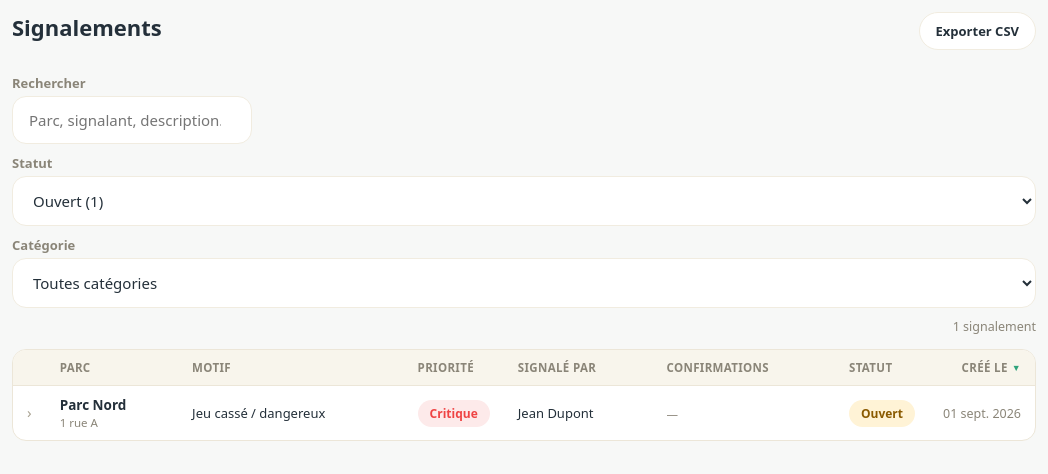
Test: Reports — file de triage (Lot Admin-2) › affiche l'adresse du parc quand elle existe, et un message neutre sinon
expect the text "1 rue A" is shown: met, box x1=60 y1=415 x2=98 y2=430
Bascule sur "Résolu" pour révéler la ligne dont l'adresse est absente.
Select "Résolu" in the dropdown labelled "Statut" at (524, 201), box x1=12 y1=176 x2=1036 y2=226
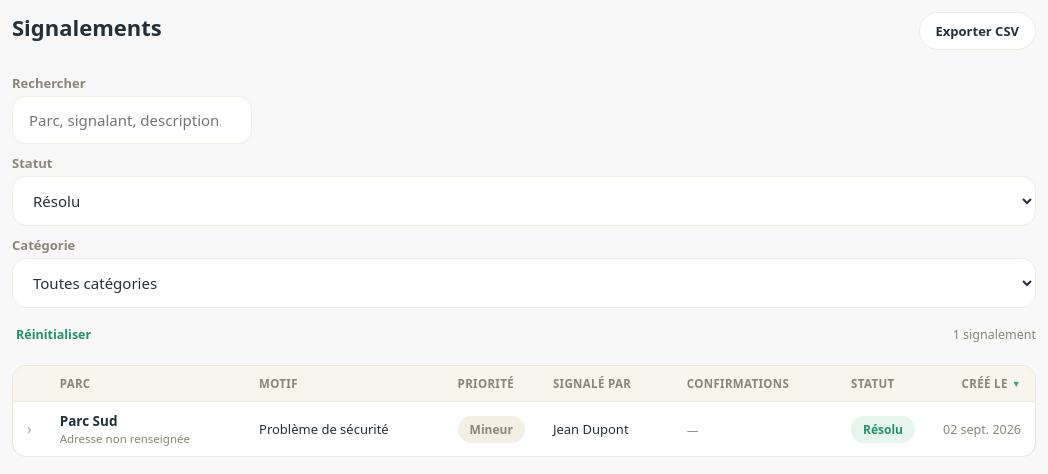
expect the text "Adresse non renseignée" is shown: met, box x1=60 y1=431 x2=190 y2=446
